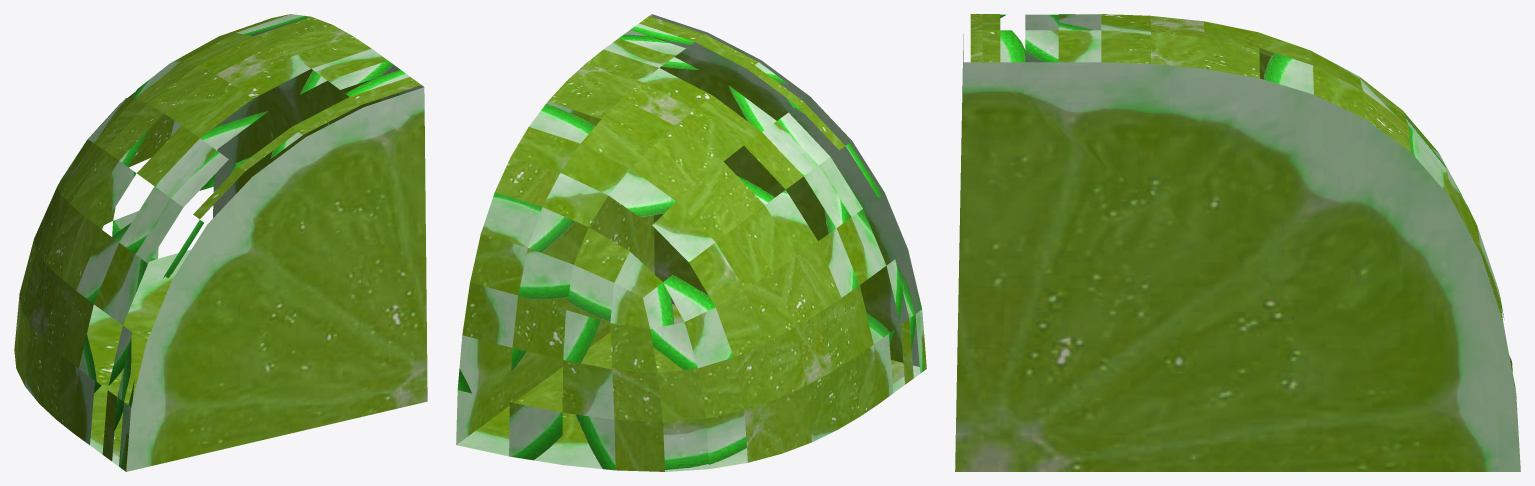
The model's file is Obst_small.fbx.
The picture shows the model from 3 angles, left to right: view 1: azimuth 30°, elevation 25°; view 2: azimuth 150°, elevation 25°; view 3: azimuth 270°, elevation 25°; orthographic projection. The views are drawn at different scales.
Visible parts, largest first — view 1: Limette; view 2: Limette; view 3: Limette.
Boxes of the visible parts, box(x1,y1,x2,y2) form: Limette: box(14, 14, 427, 471); Limette: box(456, 14, 926, 471); Limette: box(955, 14, 1520, 471).
Size of the model in its own units: 92.19 by 92.19 by 115.
